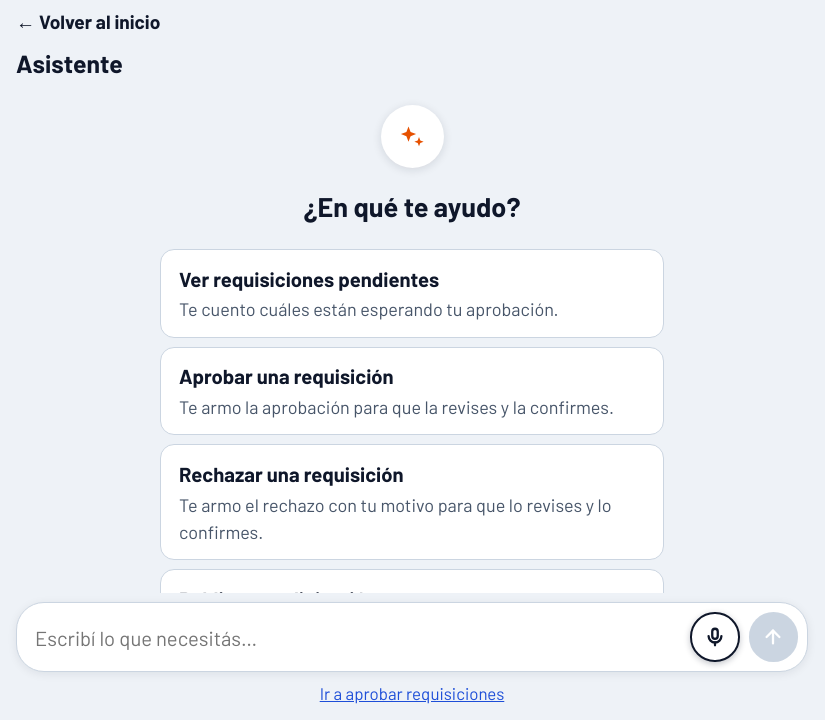
Scenario: AsistenteChatPage en el portal de Compras › una consulta sin borrador solo muestra texto, sin tarjeta de confirmación
Click the button "Ver requisiciones pendientes": {"x": 412, "y": 294} [160, 249, 664, 338]
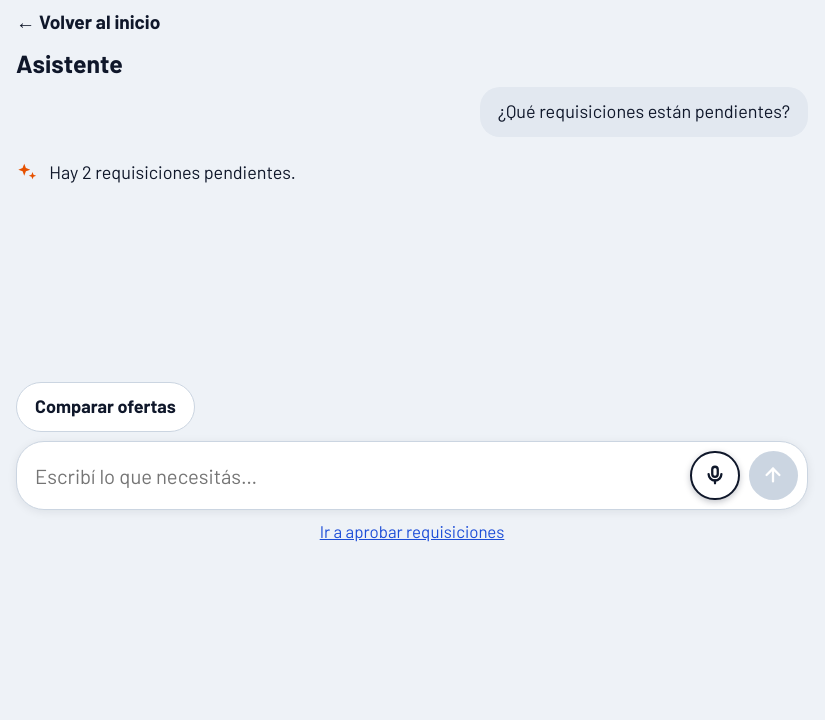
Now the text "Hay 2 requisiciones pendientes." is shown, box [49, 161, 296, 183]
